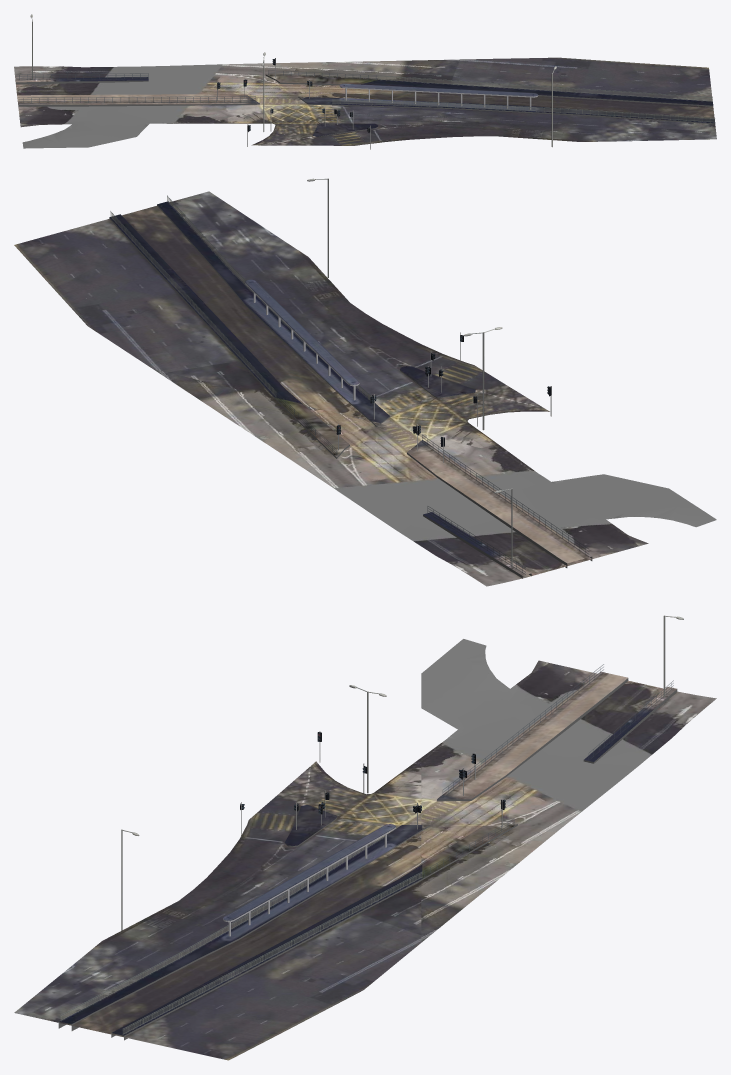
File: cotton-tree-drive.glb
3 views of the same model, one above another, from view 1: azimuth 30°, elevation 25°; view 2: azimuth 150°, elevation 25°; view 3: azimuth 270°, elevation 25° (orthographic). The views are drawn at different scales.
Visible parts, largest first — view 1: cotton-tree-drive; view 2: cotton-tree-drive; view 3: cotton-tree-drive.
Part boxes in pixels (left/top/right/bottom): cotton-tree-drive: left=14, top=14, right=716, bottom=149; cotton-tree-drive: left=14, top=178, right=716, bottom=586; cotton-tree-drive: left=14, top=615, right=716, bottom=1060.
Size of the model in its own units: 110 by 13.18 by 78.91.
13 materials, 13 textured.
